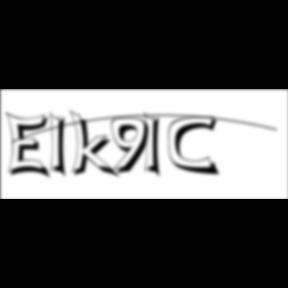9: (110, 117, 156, 177)
C: (168, 115, 224, 178)
E: (6, 110, 54, 182)
I: (49, 110, 73, 182), (144, 110, 168, 182)
k: (70, 108, 122, 181)
